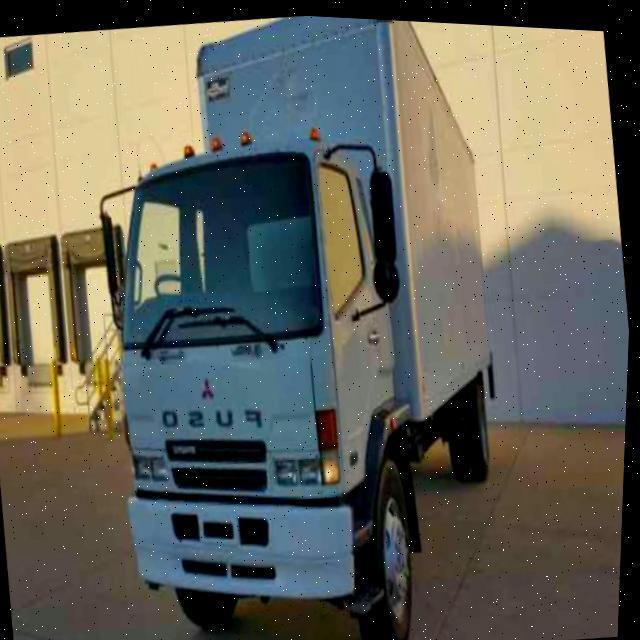truck: (68, 4, 538, 640)
